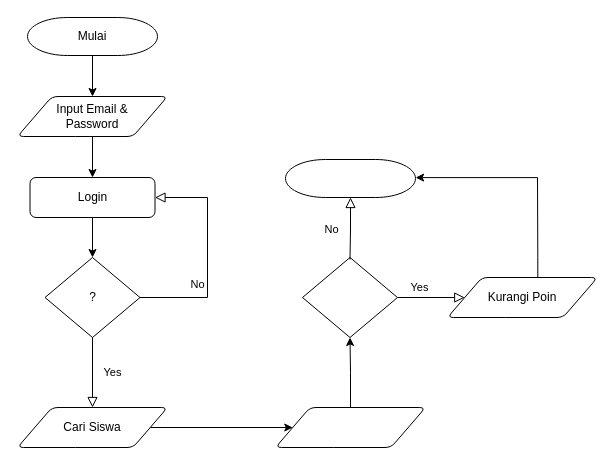
Some shapes in this 615 by 465 pixel diagram are drawn without their labels. The shapes that lost their labels are listed below. From the top down, each one's box as (x1, y1, x2, y2) in pixels, then its label:
(284, 158, 416, 198): Selesai
(302, 256, 398, 338): Siswa Melakukan Kesalahan
(274, 406, 426, 448): Menampilkan Data Siswa
